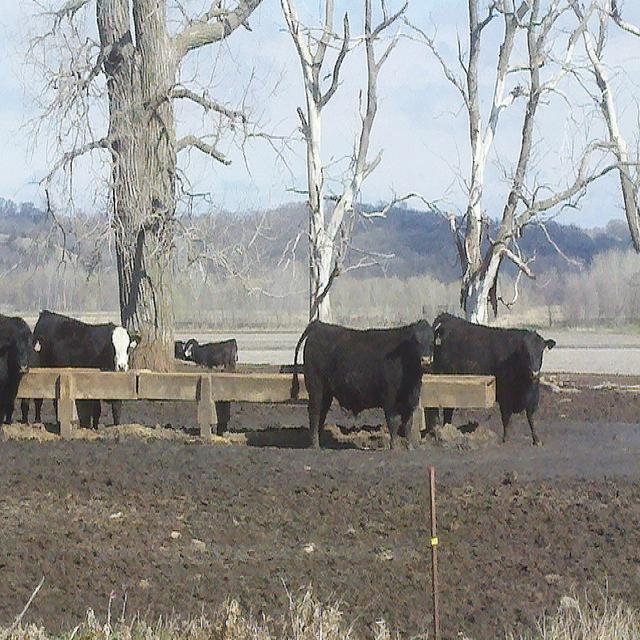cow: (289, 317, 436, 444), (432, 313, 556, 444), (29, 307, 137, 426), (0, 312, 31, 424), (182, 338, 237, 369), (172, 338, 184, 359)
